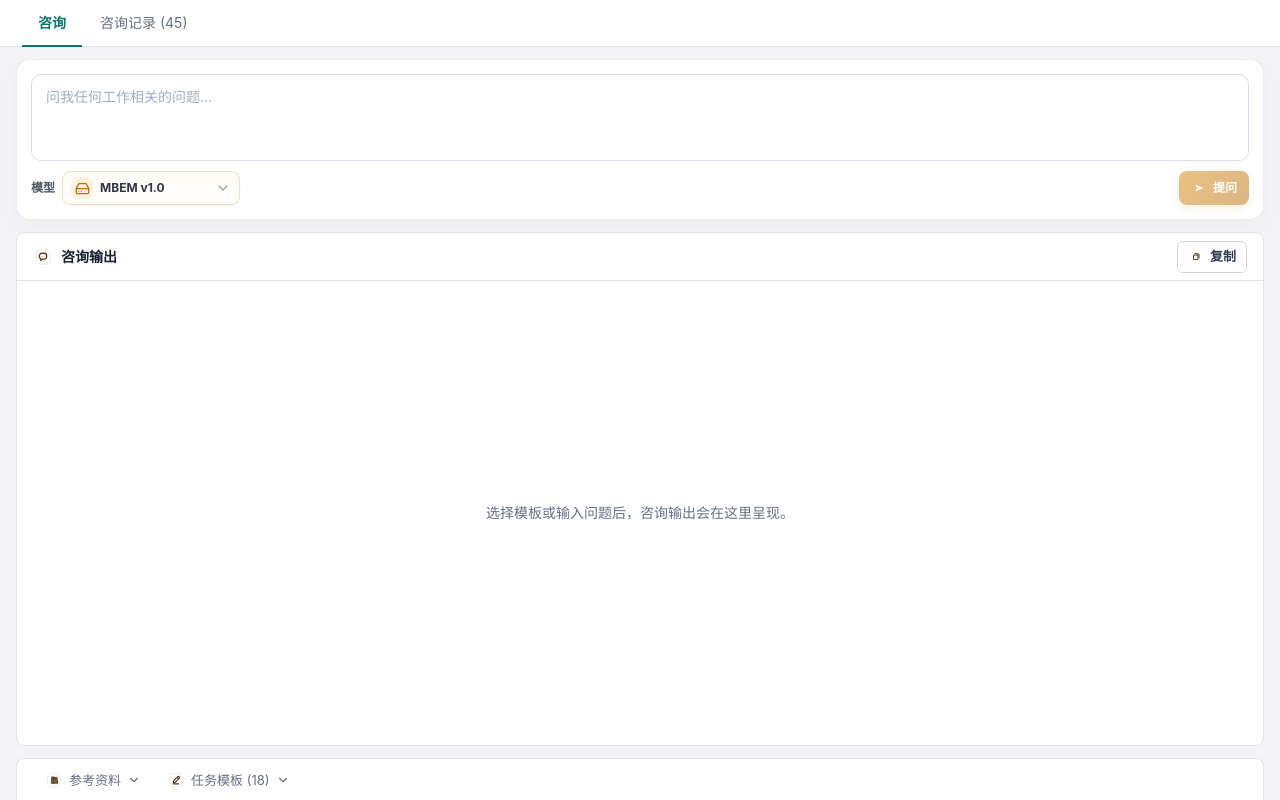
Test case: 咨询记录搜索与分页 › 展示真实总数，并按关键词和页码请求记录
Click the button "咨询记录 (45)": (144, 24) [84, 0, 204, 47]
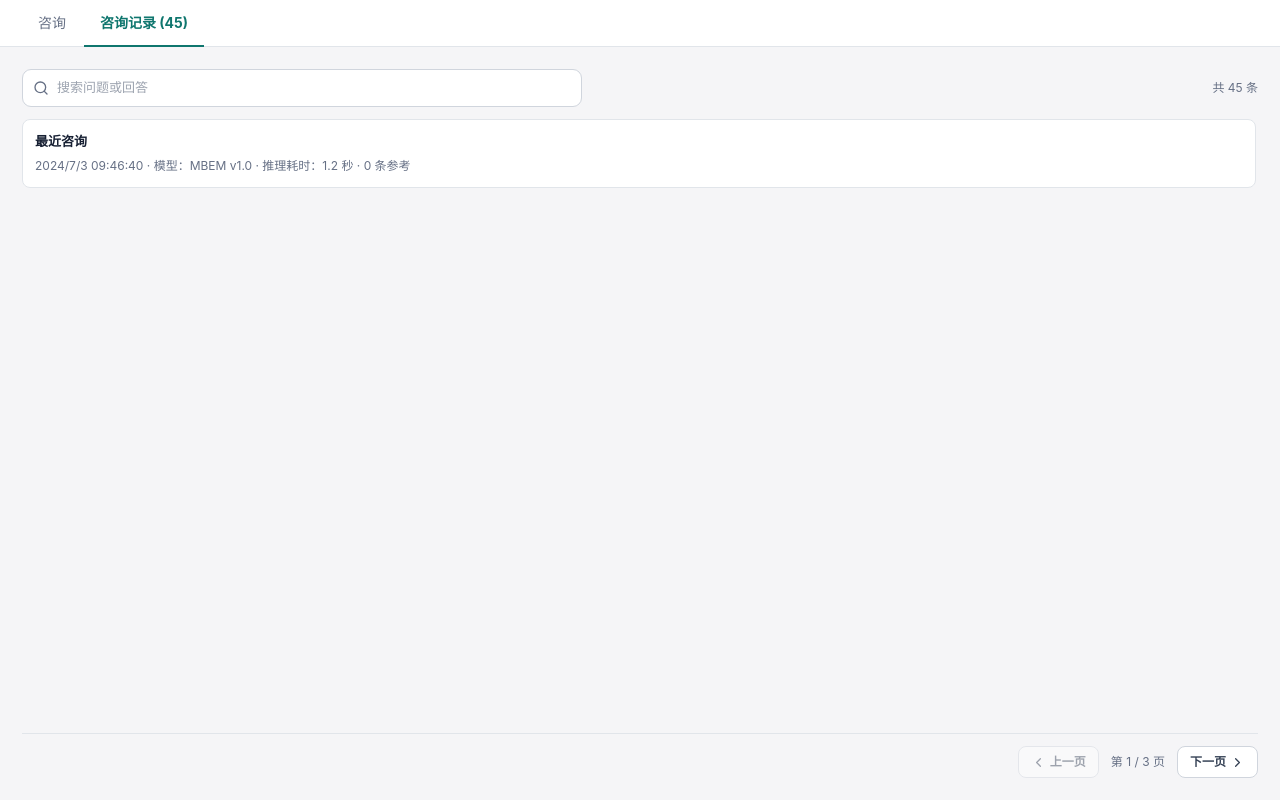
In the search field named "搜索咨询记录": (314, 88) [57, 78, 571, 98], type "年度规划"
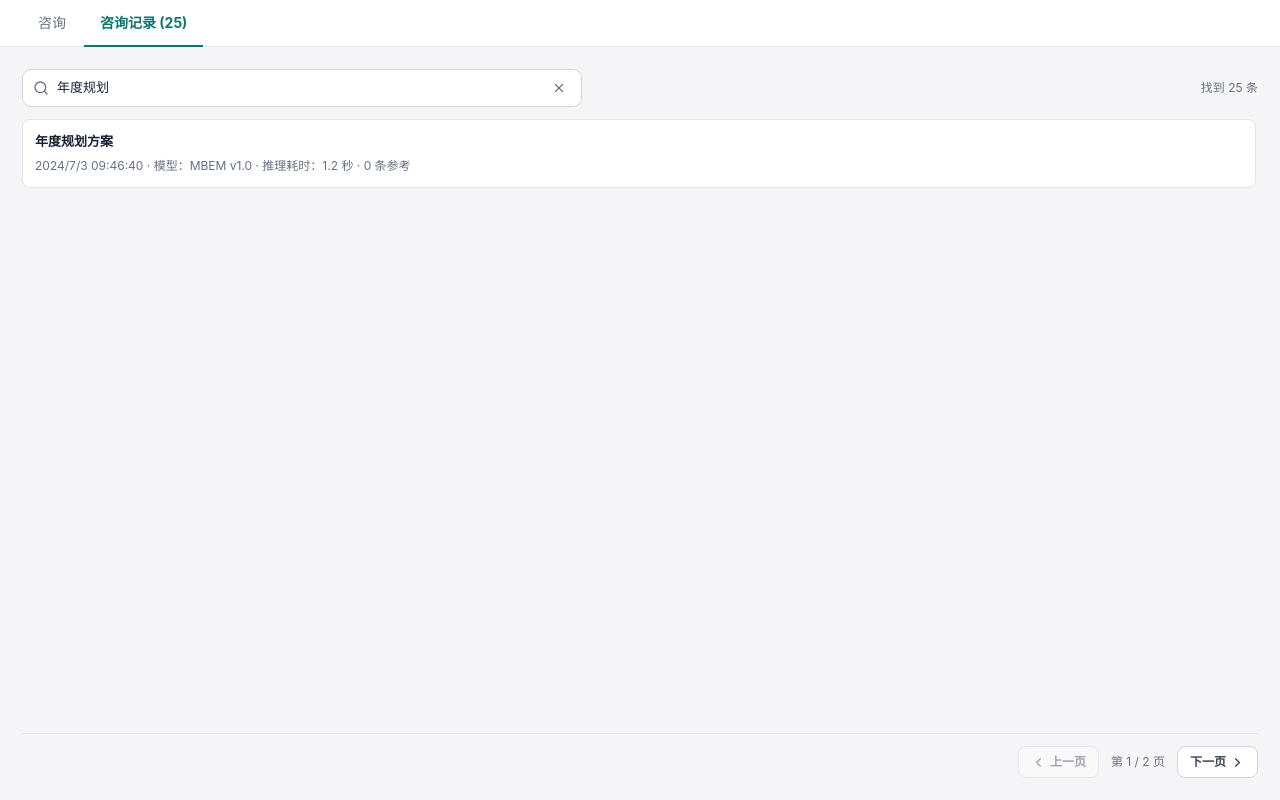
Now the text "年度规划方案" is shown, box [35, 133, 113, 149]
Now the text "找到 25 条" is shown, box [1201, 79, 1258, 97]
Click the button "下一页": (1218, 762) [1177, 746, 1258, 778]
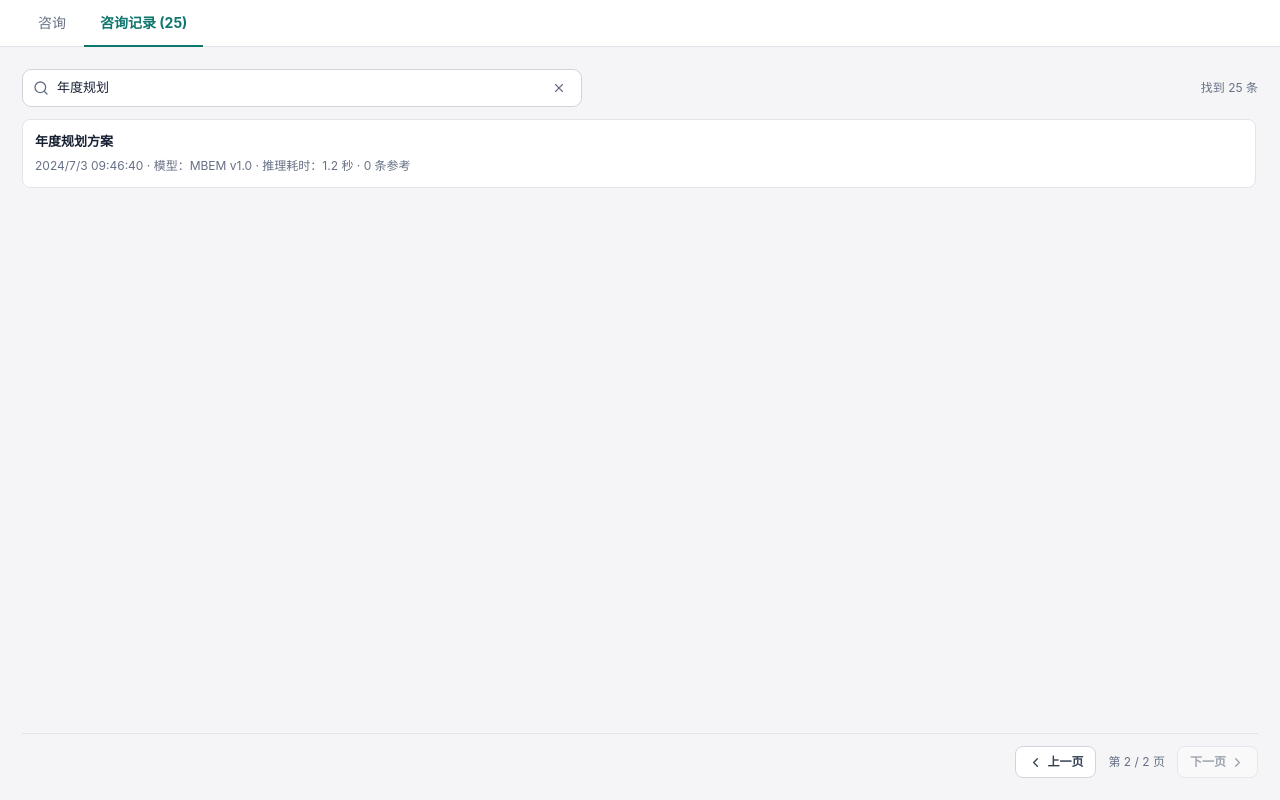
Now the text "第 2 / 2 页" is shown, box [1108, 753, 1165, 771]
